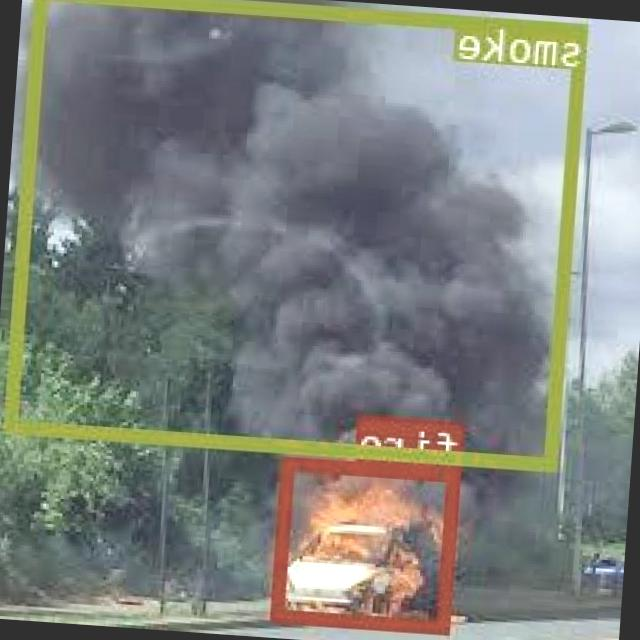fire: (274, 456, 462, 631)
smoke: (6, 0, 589, 469)
